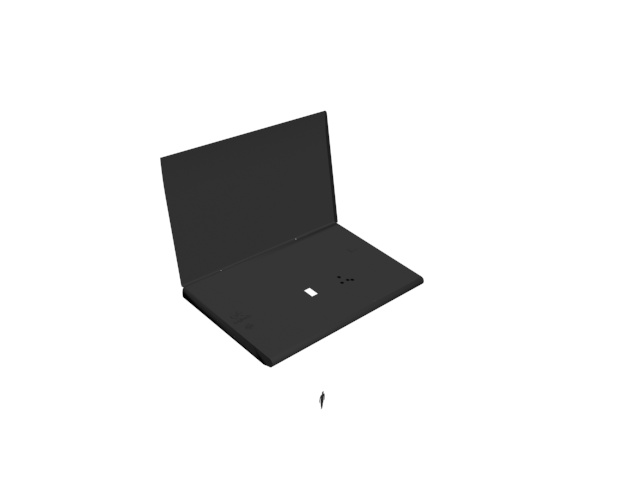laptop_computer: (159, 105, 427, 416)
